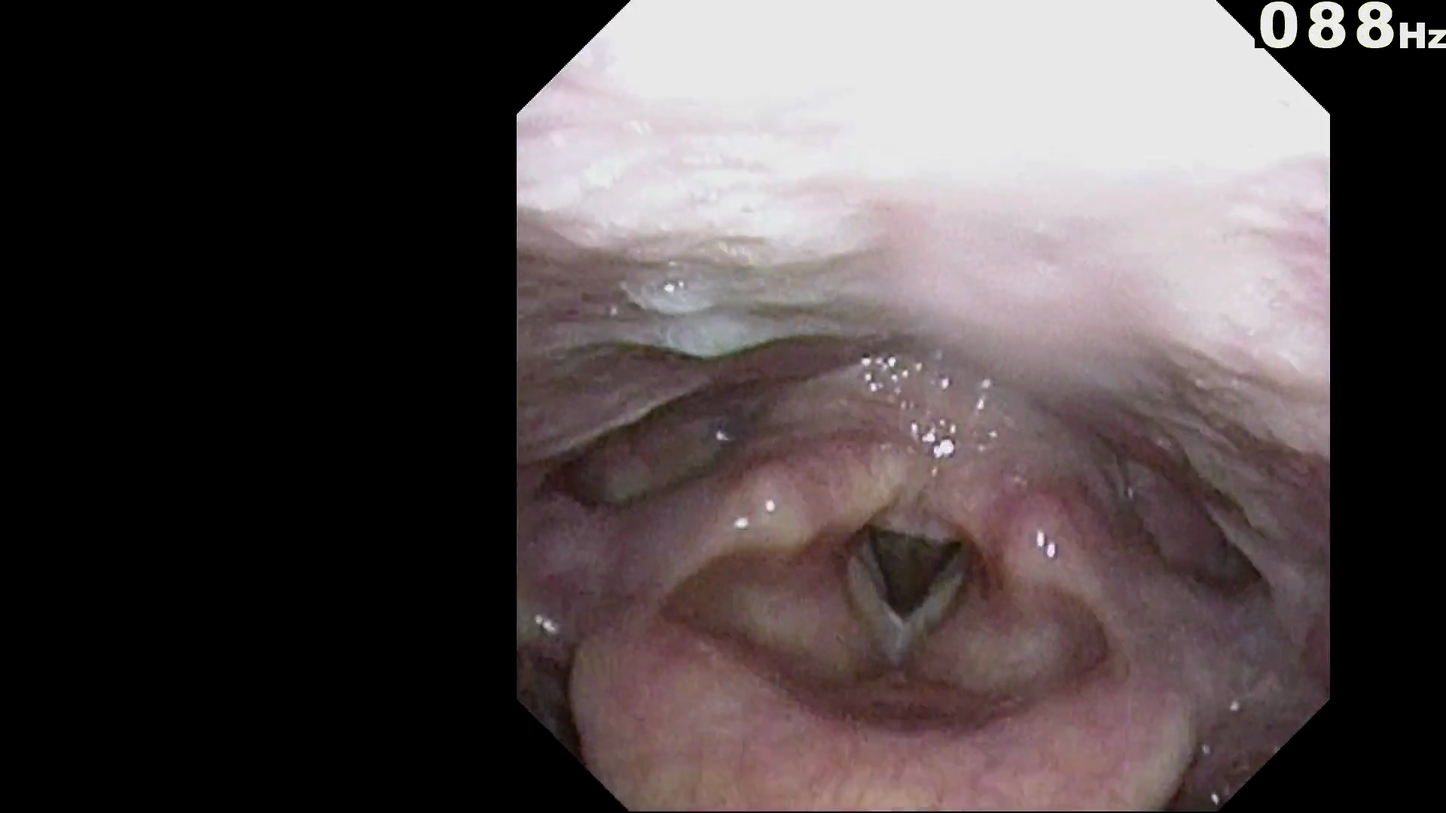epiglottis: (631, 676, 1190, 802)
trachea: (850, 525, 969, 653)
